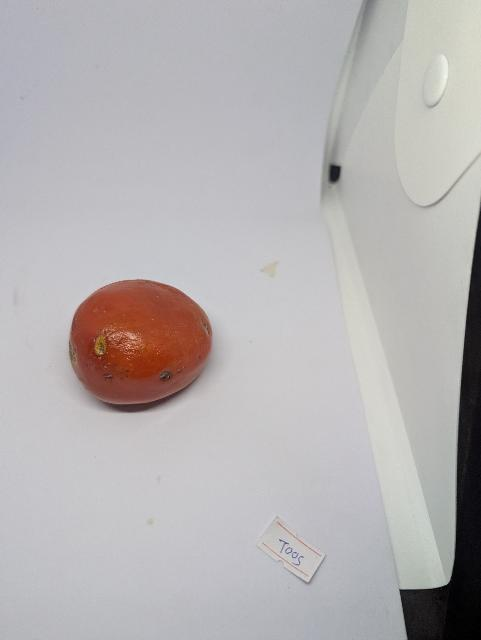defect: (64, 277, 216, 409)
